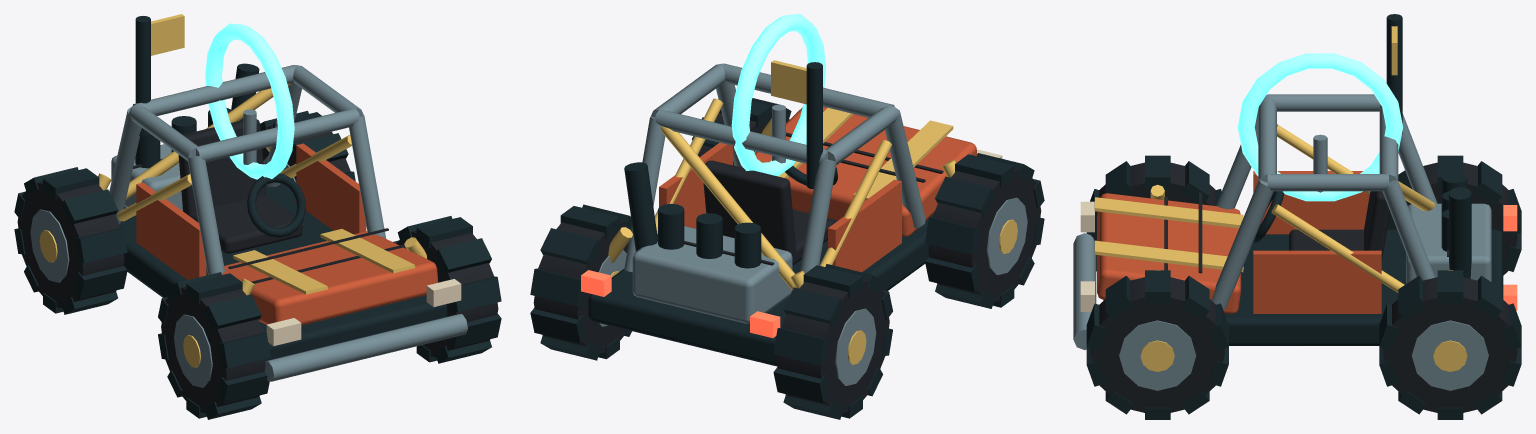
File: row-six-rival-hobbs.glb
3 renders of one model, left to right at view 1: azimuth 30°, elevation 25°; view 2: azimuth 150°, elevation 25°; view 3: azimuth 270°, elevation 25°, orthographic. The views are drawn at different scales.
Parts seen in each view (by area): view 1: row-six-rival-hobbs; view 2: row-six-rival-hobbs; view 3: row-six-rival-hobbs.
Part boxes in pixels (left/top/right/bottom): row-six-rival-hobbs: left=14, top=14, right=501, bottom=419; row-six-rival-hobbs: left=530, top=14, right=1044, bottom=419; row-six-rival-hobbs: left=1073, top=14, right=1521, bottom=419.
Bounding box in the file's own units: 2.28 × 2.31 × 3.14.
